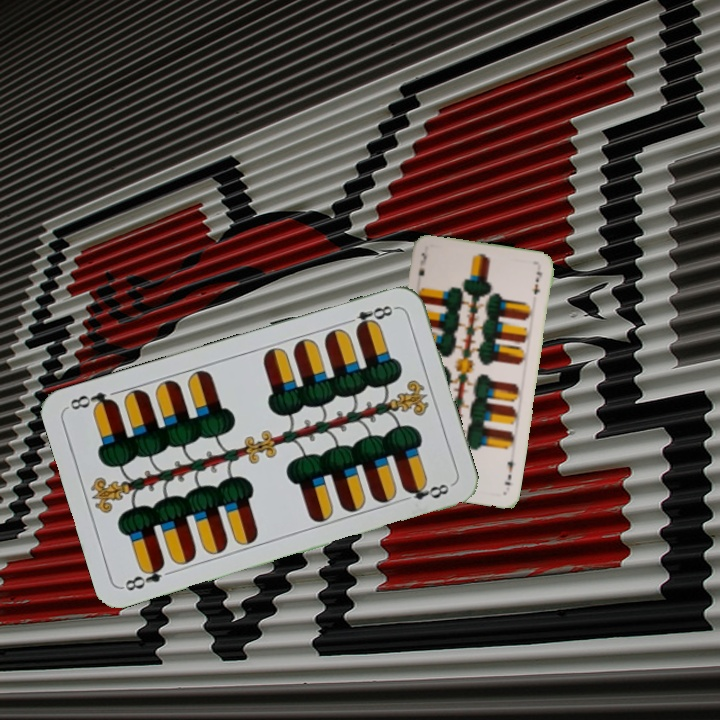E7: (501, 453, 517, 488), (414, 248, 429, 279)
E8: (341, 301, 399, 333), (119, 558, 168, 594)
